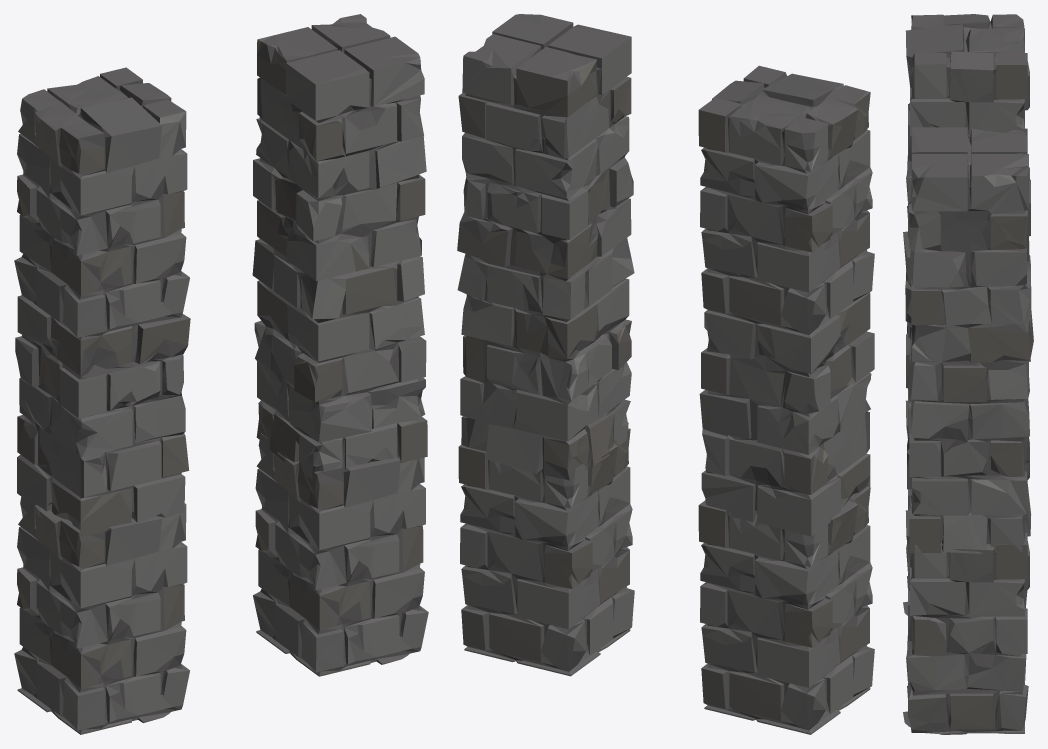
File: Env_ Large_Pillar_100%.fbx
3 renders of one model, left to right at view 1: azimuth 30°, elevation 25°; view 2: azimuth 150°, elevation 25°; view 3: azimuth 270°, elevation 25°, orthographic. The views are drawn at different scales.
Parts seen in each view (by area): view 1: SM_Env_Wall_Pillar_Large_01.006, SM_Env_Wall_Pillar_Large_01.001; view 2: SM_Env_Wall_Pillar_Large_01.006, SM_Env_Wall_Pillar_Large_01.001; view 3: SM_Env_Wall_Pillar_Large_01.001, SM_Env_Wall_Pillar_Large_01.006.
Boxes of the visible parts, x1,y1,x2,y2 form: SM_Env_Wall_Pillar_Large_01.006: (14,67,190,734); SM_Env_Wall_Pillar_Large_01.001: (252,14,428,676); SM_Env_Wall_Pillar_Large_01.006: (698,65,874,734); SM_Env_Wall_Pillar_Large_01.001: (457,14,634,676); SM_Env_Wall_Pillar_Large_01.001: (903,127,1033,734); SM_Env_Wall_Pillar_Large_01.006: (903,14,1029,615).
Bounding box in the file's own units: 6.72 × 2.25 × 10.74.
